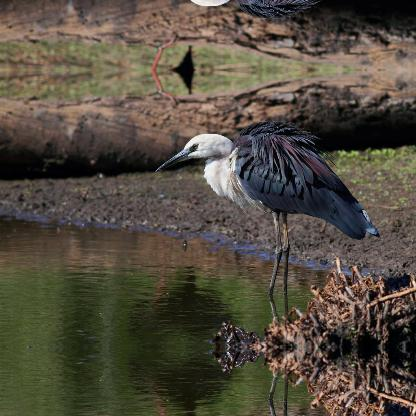Bird: (154, 118, 380, 294)
